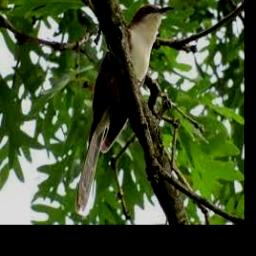Cuckoo: (75, 6, 174, 212)
